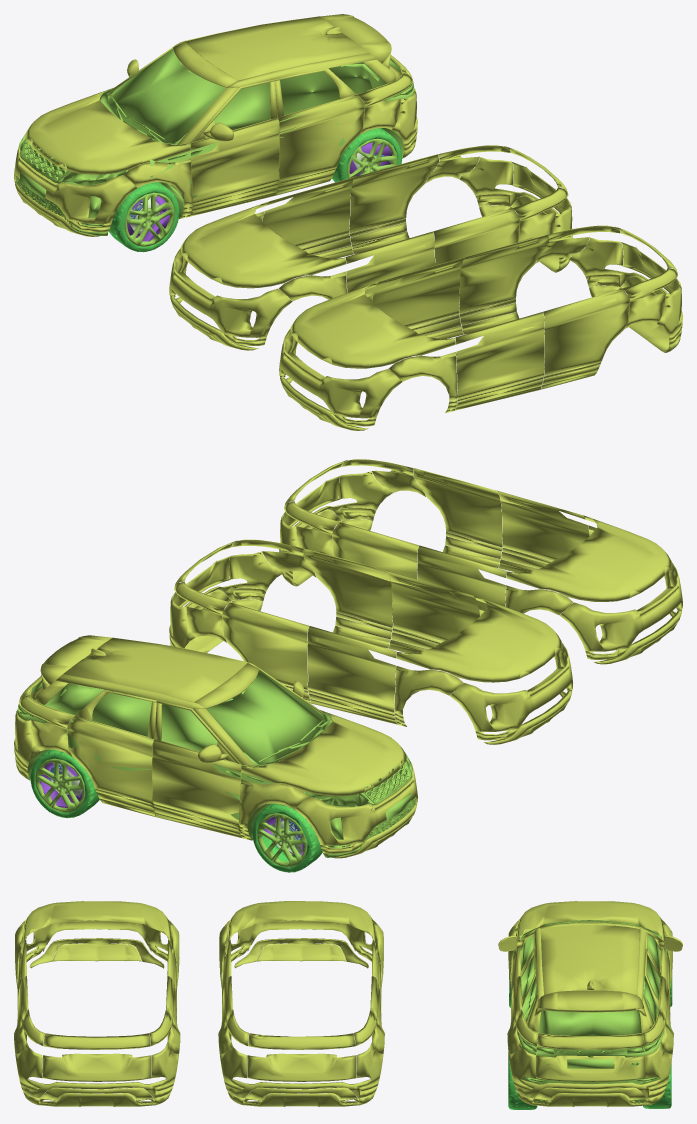
File: range_rover_classic.glb
3 renders of one model, top to bottom at view 1: azimuth 30°, elevation 25°; view 2: azimuth 150°, elevation 25°; view 3: azimuth 270°, elevation 25°, orthographic. The views are drawn at different scales.
Visible parts, largest first — view 1: Blue, White, Black, Roof, Glass, Elements, Plane015, Salon, Plane008, Plane136, Plane135; view 2: White, Blue, Black, Roof, Glass, Elements, Salon, Plane141, Plane140, Plane138, Plane139; view 3: White, Blue, Black, Roof, Glass, Elements, Salon, Plane135, Plane139.
Part boxes in pixels (bbox=[...]): Blue: bbox=[279, 225, 682, 430]; White: bbox=[169, 145, 572, 350]; Black: bbox=[14, 55, 417, 236]; Roof: bbox=[107, 14, 402, 144]; Glass: bbox=[108, 48, 401, 143]; Elements: bbox=[15, 73, 414, 235]; Plane015: bbox=[124, 192, 174, 246]; Salon: bbox=[63, 60, 404, 232]; Plane008: bbox=[109, 182, 179, 252]; Plane136: bbox=[347, 138, 397, 185]; Plane135: bbox=[332, 128, 401, 191]; White: bbox=[169, 539, 572, 744]; Blue: bbox=[279, 459, 682, 664]; Black: bbox=[14, 676, 417, 858]; Roof: bbox=[29, 635, 324, 765]; Glass: bbox=[31, 670, 324, 764]; Elements: bbox=[17, 695, 415, 857]; Salon: bbox=[27, 678, 352, 856]; Plane141: bbox=[252, 803, 322, 872]; Plane140: bbox=[257, 813, 306, 867]; Plane138: bbox=[35, 758, 85, 812]; Plane139: bbox=[30, 749, 99, 818]; White: bbox=[218, 901, 384, 1106]; Blue: bbox=[14, 901, 180, 1106]; Black: bbox=[507, 901, 673, 1106]; Roof: bbox=[498, 922, 682, 1036]; Glass: bbox=[521, 934, 659, 1036]; Elements: bbox=[514, 919, 667, 1102]; Salon: bbox=[508, 920, 673, 1100]; Plane135: bbox=[508, 1052, 537, 1109]; Plane139: bbox=[643, 1063, 671, 1108].
Size of the model in its own units: 2.73 by 0.9783 by 4.65.
